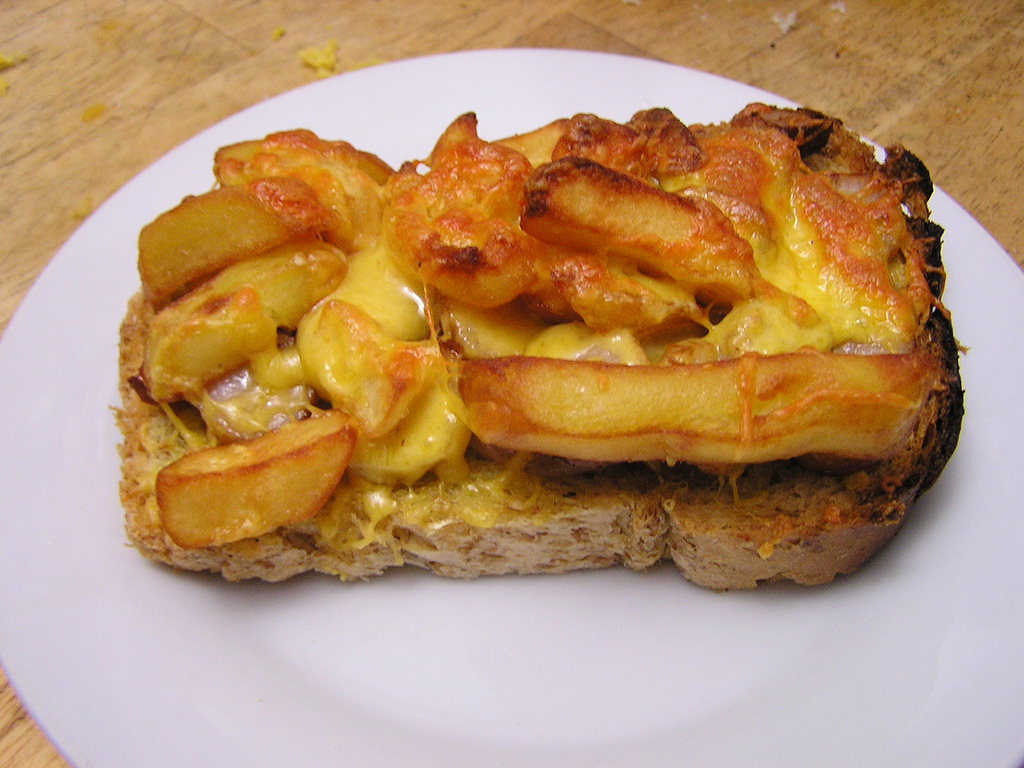slice of bread: (129, 135, 974, 580)
